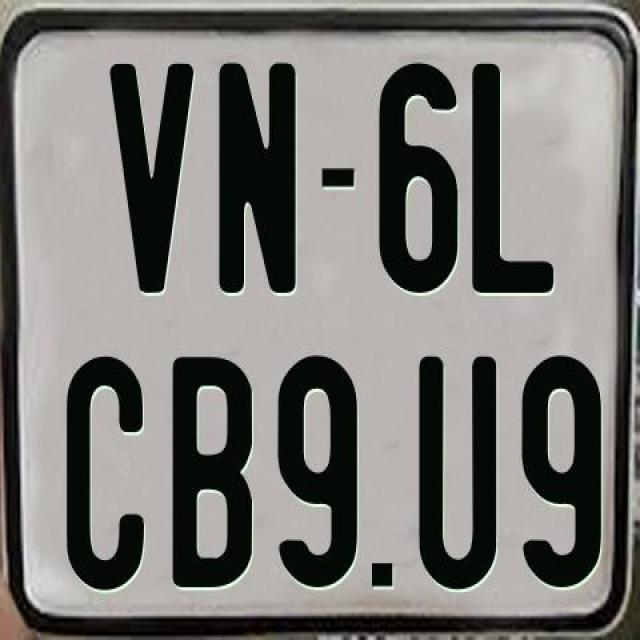6: (376, 61, 459, 300)
9: (277, 352, 363, 594), (517, 350, 603, 582)
B: (172, 357, 260, 592)
C: (65, 353, 148, 592)
L: (469, 64, 551, 299)
N: (218, 62, 298, 298)
U: (418, 357, 502, 592)
V: (108, 62, 192, 301)
